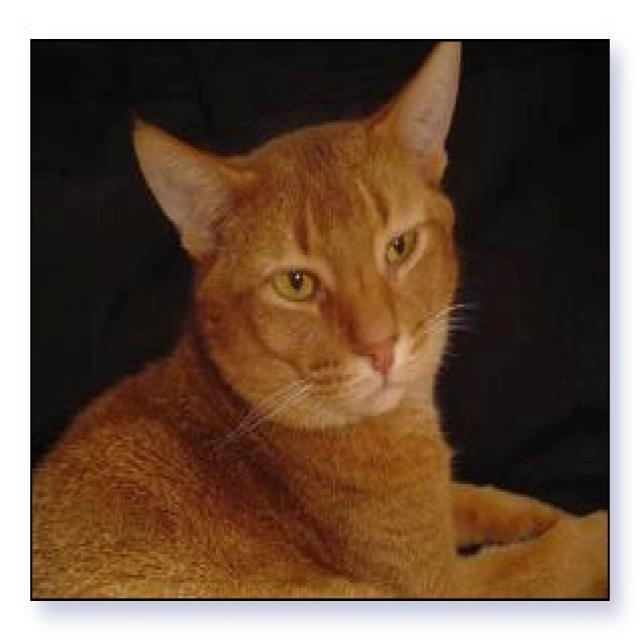cat: (130, 36, 458, 424)
